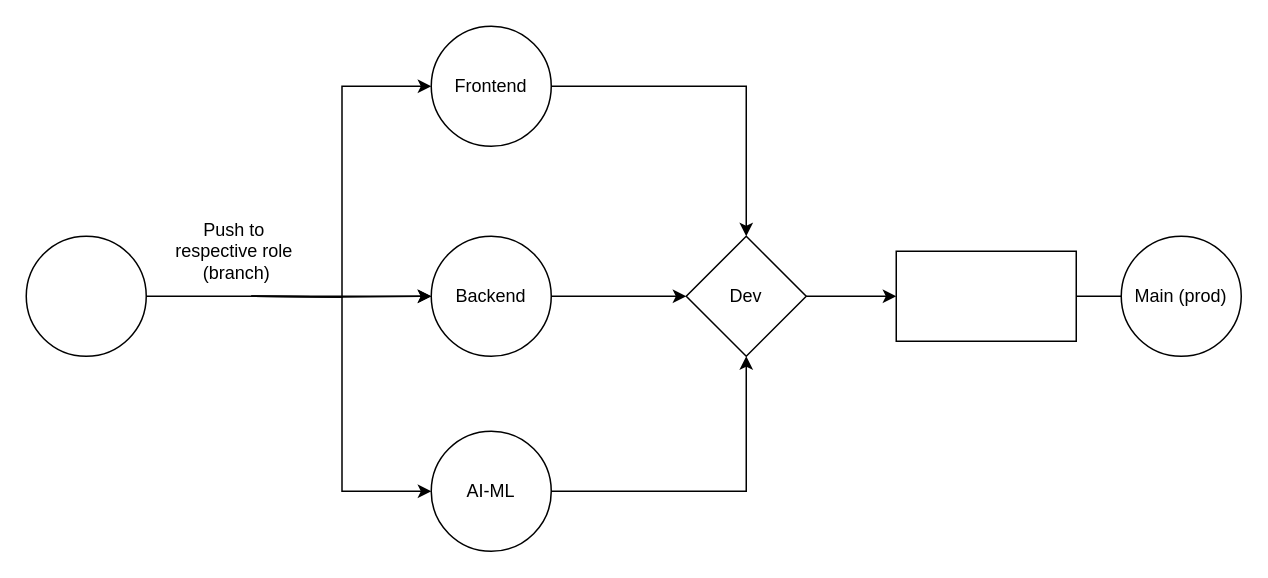
The diagram is 1268 pixels wide and 578 high, and some of its shapes have lost their labels. Here are the shapes that lost their labels. From the top down, the box of each, then its label:
(25, 235, 146, 356): Developer
(895, 250, 1076, 341): Test composite merge of all branches
